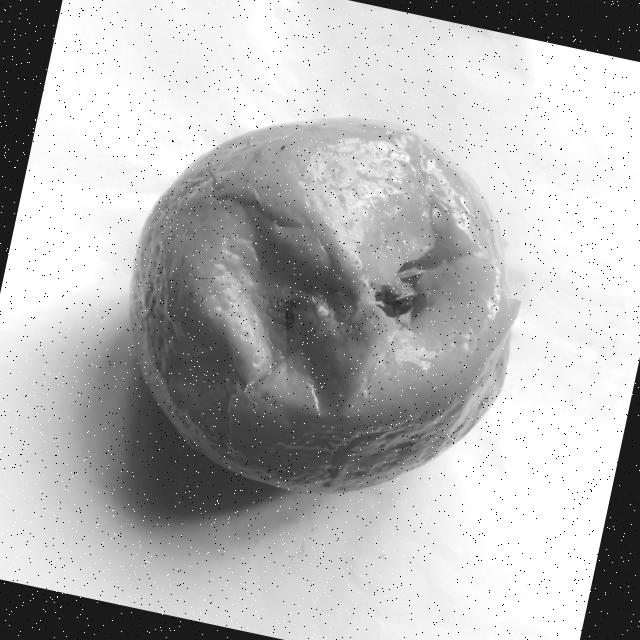Rotten: (93, 74, 551, 529)
